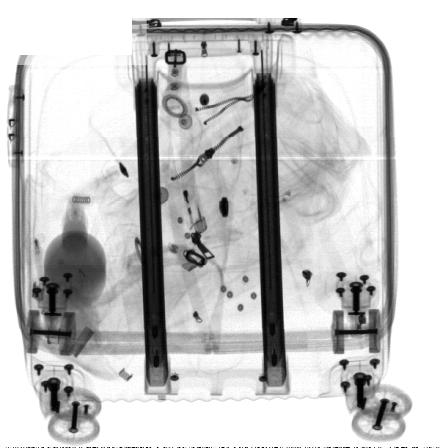Lighter: (177, 175, 209, 235)
